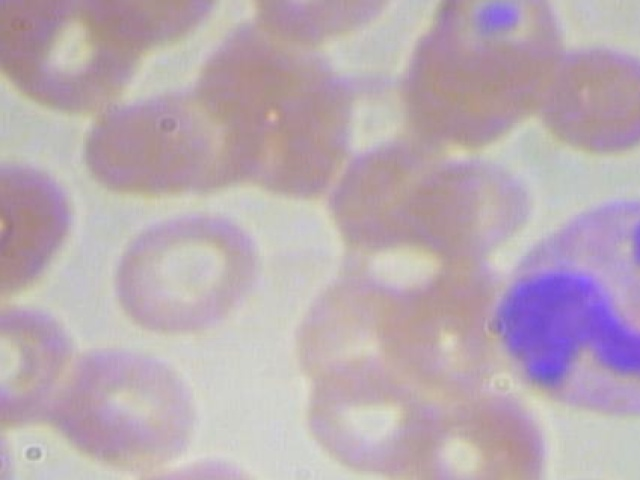RBC: (103, 208, 283, 338), (56, 342, 210, 474), (0, 0, 148, 113), (525, 37, 640, 159), (0, 155, 85, 309), (79, 98, 203, 203), (0, 295, 84, 428), (237, 0, 413, 49)
WBC: (479, 193, 640, 420)
